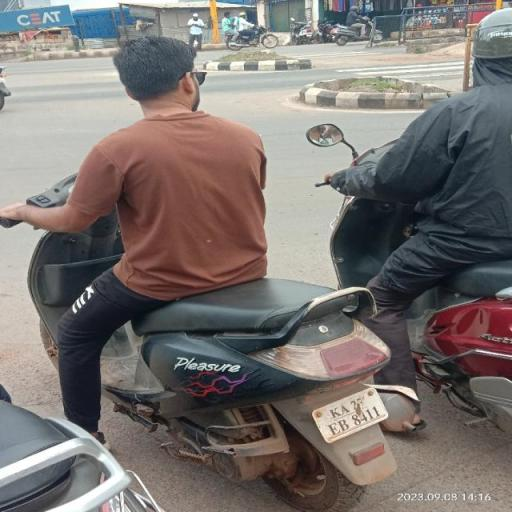bike: (16, 30, 404, 509)
numberplate: (304, 374, 393, 446)
withouthelmet: (110, 31, 194, 103)
